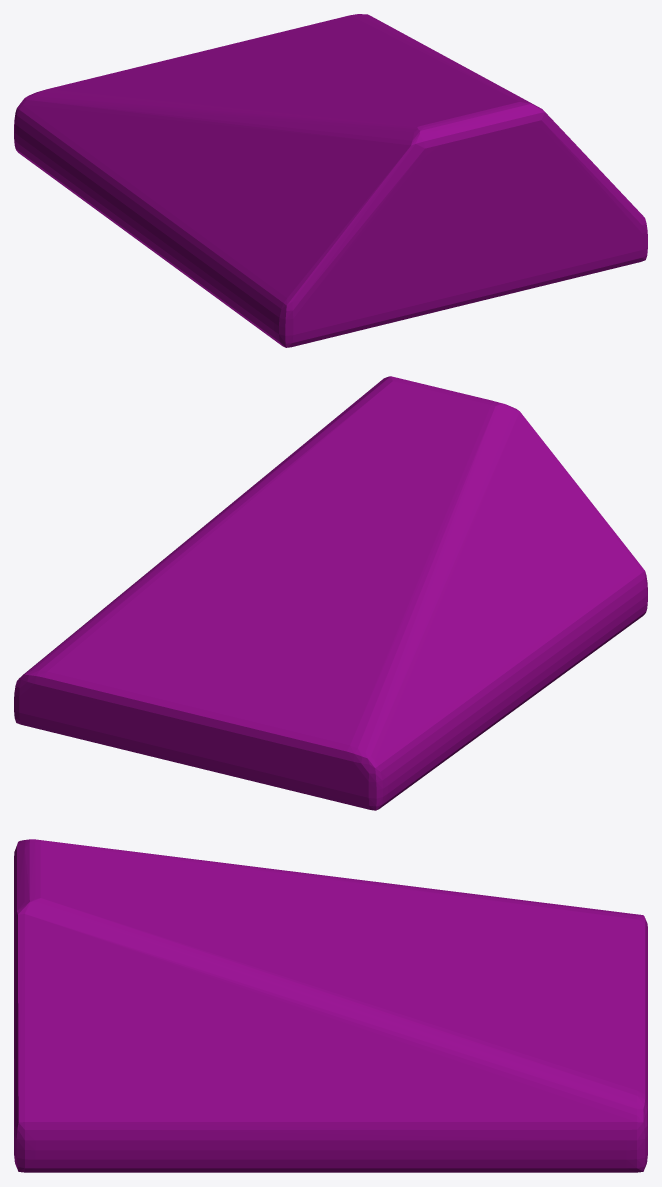
File: torso_link_part_14.obj
3 views of the same model, one above another, from view 1: azimuth 30°, elevation 25°; view 2: azimuth 150°, elevation 25°; view 3: azimuth 270°, elevation 25° (orthographic). The views are drawn at different scales.
Size of the model in its own units: 0.1495 by 0.0701 by 0.1919.
